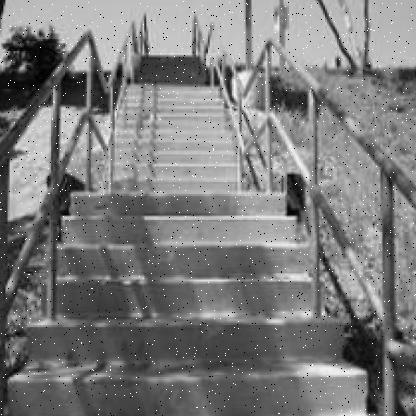stair_up: (15, 235, 367, 392)
